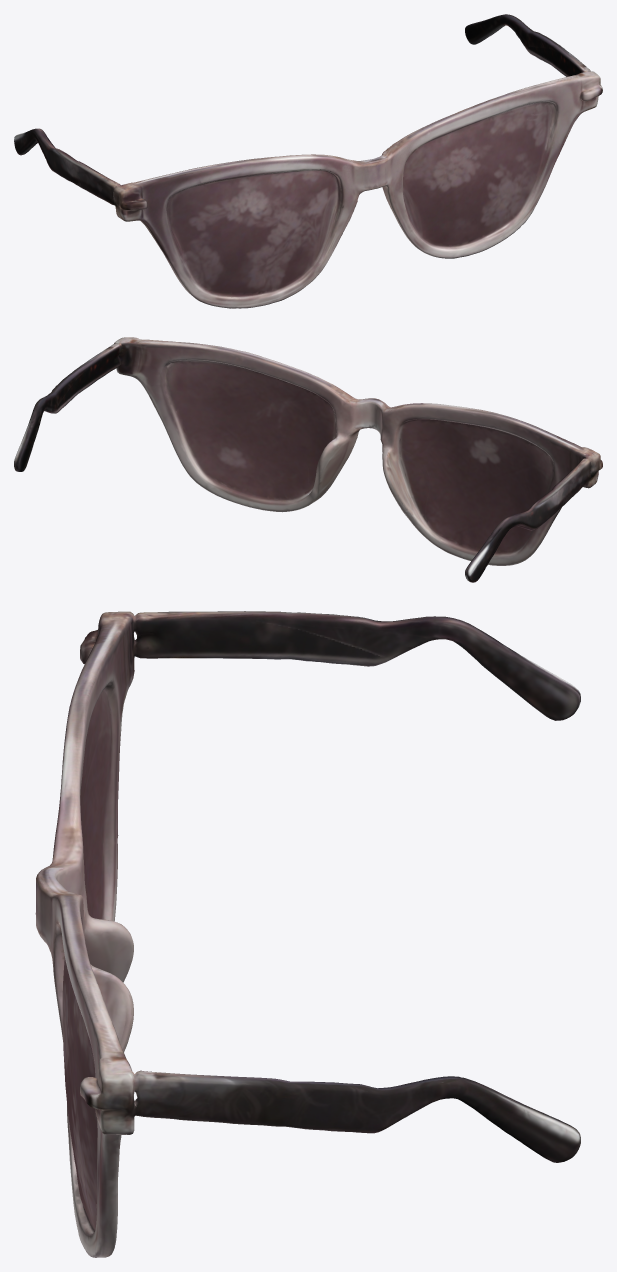
The picture shows the model from 3 angles, top to bottom: view 1: azimuth 30°, elevation 25°; view 2: azimuth 150°, elevation 25°; view 3: azimuth 270°, elevation 25°; orthographic projection. The views are drawn at different scales.
Size of the model in its own units: 2 by 0.589 by 0.9695.
Materials: 1 (1 with a texture image).
